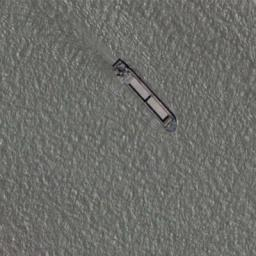boat: (110, 56, 177, 132)
